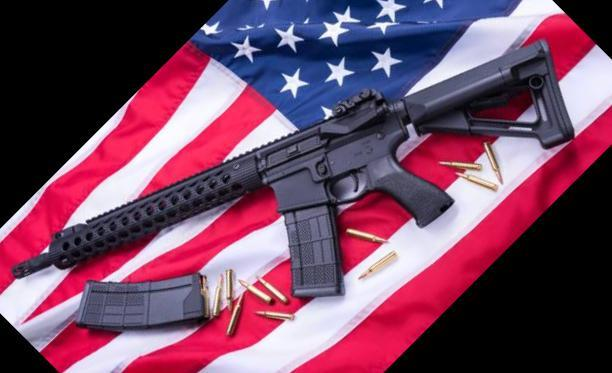larga: (11, 39, 574, 299)
